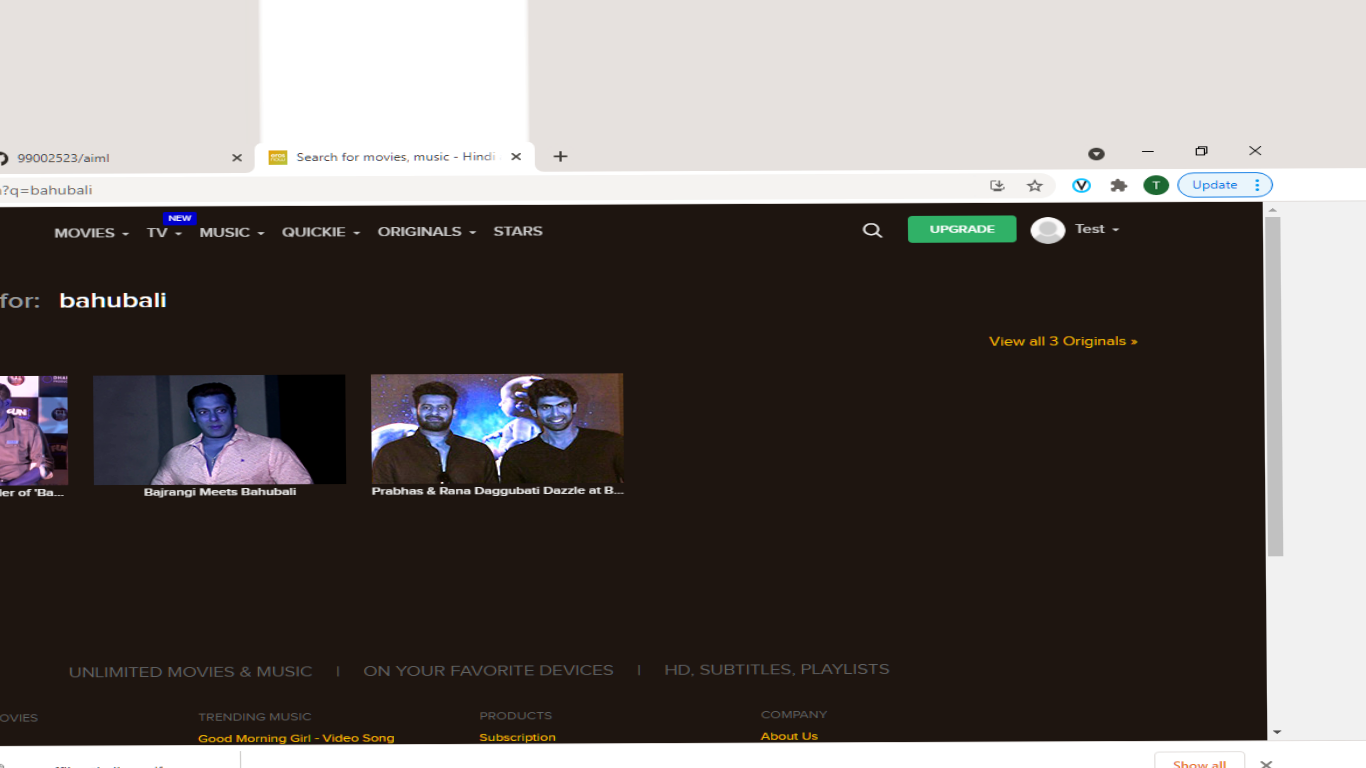profileicon: (1023, 211, 1138, 253)
resultsfound: (1, 285, 197, 355)
searchicon: (857, 215, 892, 245)
